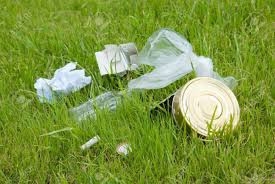cardboard: (95, 34, 143, 83)
glass: (62, 87, 133, 129)
metal: (167, 77, 241, 146)
paper: (25, 60, 89, 104)
plastic bag: (126, 30, 236, 96)
